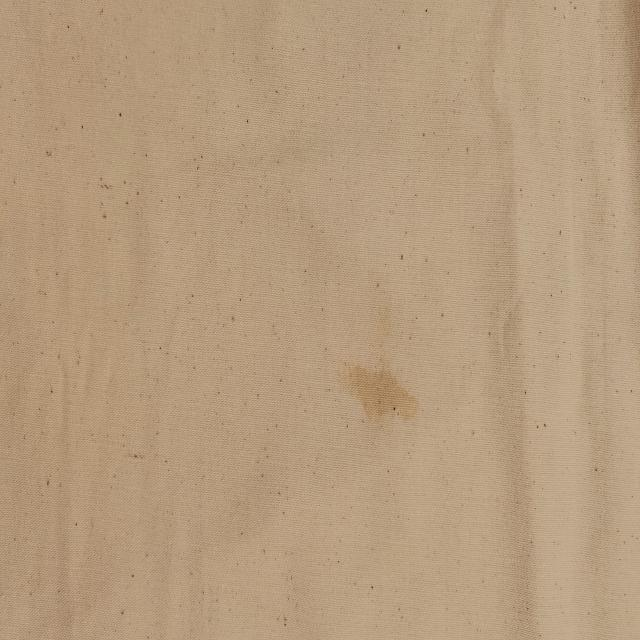taaaches: (335, 328, 425, 451)
